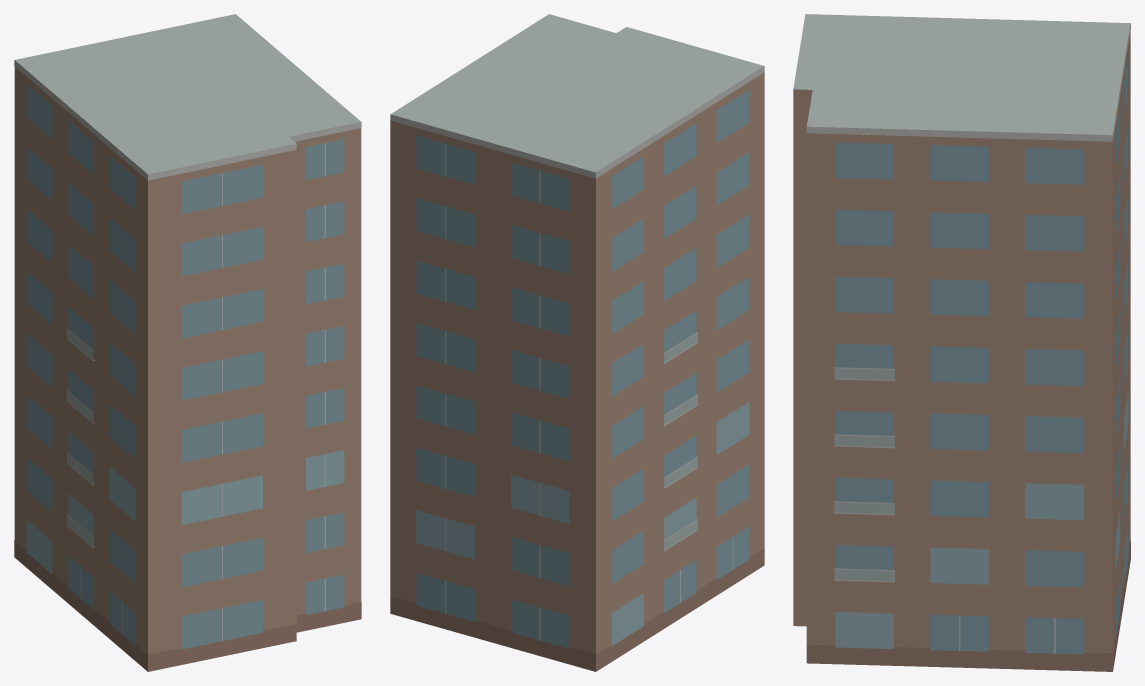
Rendered from survey-upis-32760557.glb.
3 views of the same model, side by side, from view 1: azimuth 30°, elevation 25°; view 2: azimuth 150°, elevation 25°; view 3: azimuth 270°, elevation 25° (orthographic). The views are drawn at different scales.
Parts seen in each view (by area): view 1: survey-upis-32760557.tmp; view 2: survey-upis-32760557.tmp; view 3: survey-upis-32760557.tmp.
Part boxes in pixels (x1,y1,x2,y2): survey-upis-32760557.tmp: (14, 14, 361, 671); survey-upis-32760557.tmp: (390, 14, 764, 671); survey-upis-32760557.tmp: (793, 14, 1130, 671).
Bounding box in the file's own units: 9.6 × 19.8 × 11.29.
